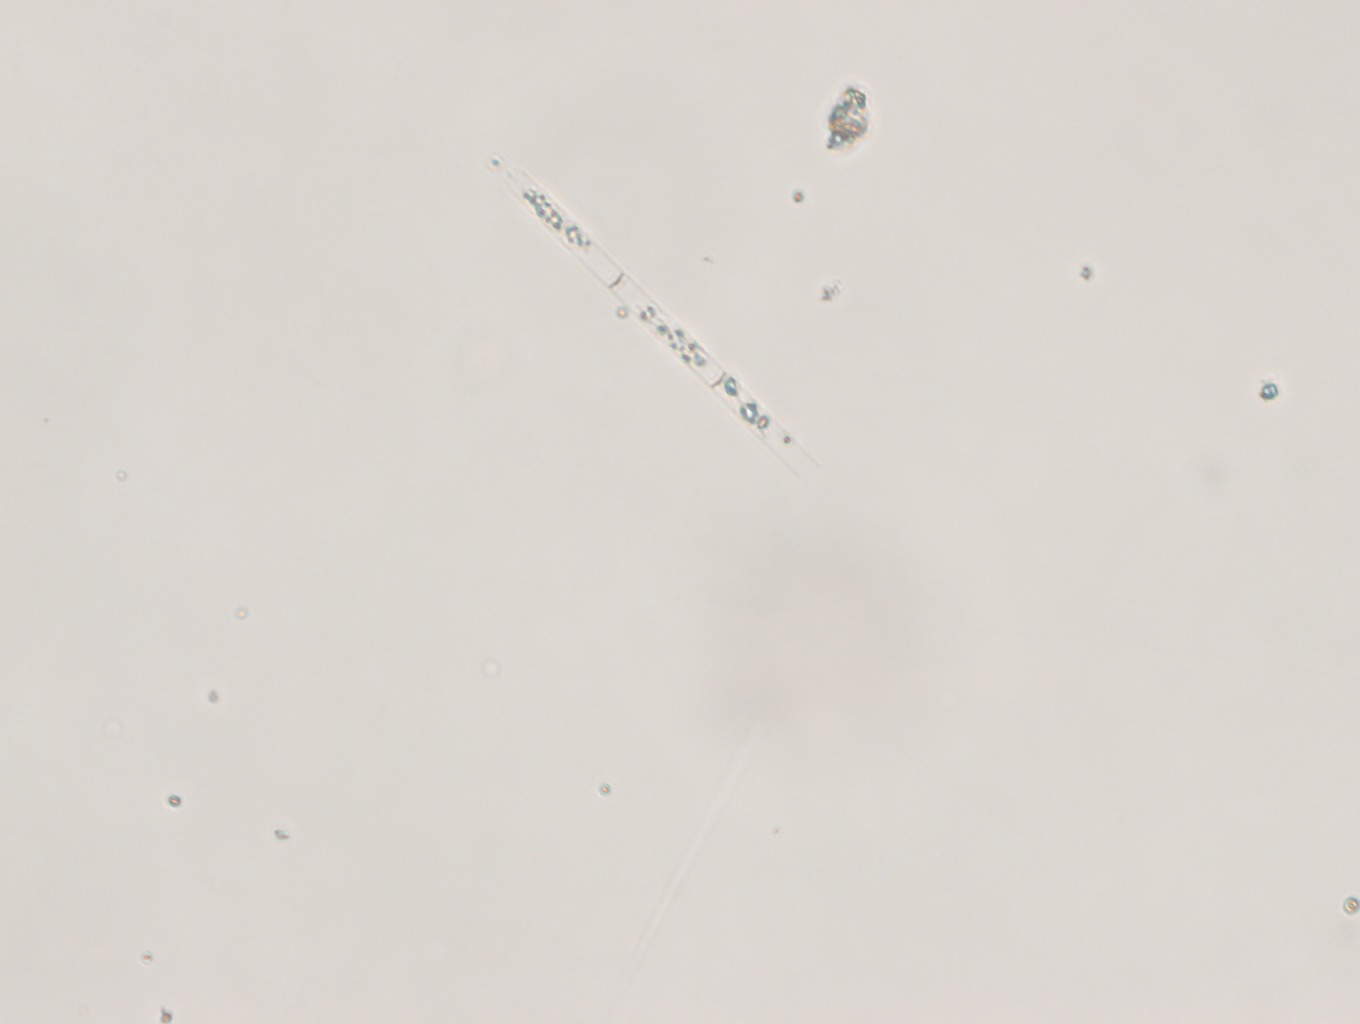guinardia flaccida: (504, 171, 829, 478)
